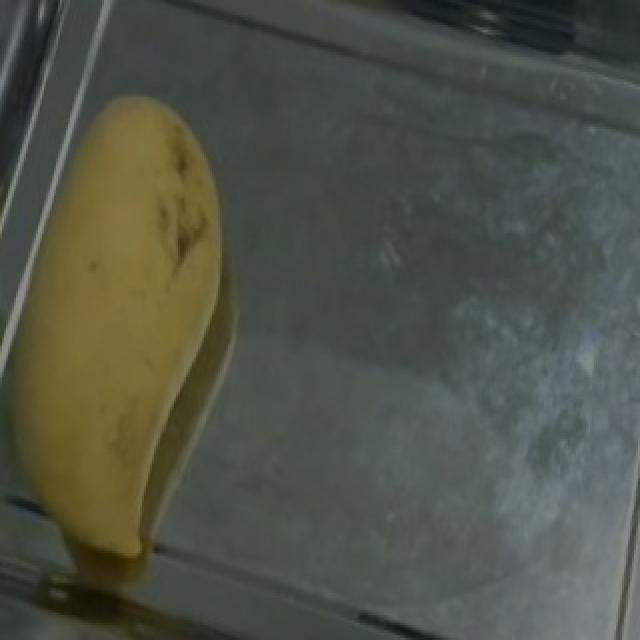fruit: (12, 62, 306, 454)
